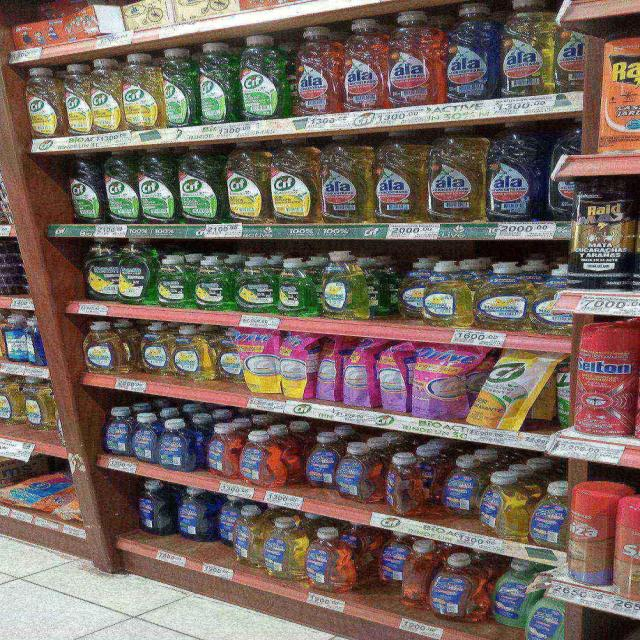ala_conc_amarillo: (428, 128, 485, 223), (373, 136, 425, 223), (318, 140, 371, 223)
ala_conc_azul: (486, 123, 542, 222), (444, 3, 497, 102), (158, 418, 195, 471), (130, 413, 158, 465)
ala_conc_rojo: (388, 11, 443, 107), (290, 25, 340, 115), (342, 19, 387, 111)
cif_conc_bot_amarilla: (268, 142, 315, 224), (223, 144, 266, 223), (122, 53, 160, 129), (24, 67, 60, 137), (90, 59, 120, 132), (62, 63, 90, 134)
cif_conc_botella_verde: (238, 34, 283, 120), (197, 40, 237, 124), (178, 146, 221, 224), (138, 148, 176, 224), (161, 49, 195, 128), (66, 152, 102, 224), (104, 150, 138, 224), (193, 255, 233, 311), (237, 257, 277, 313), (278, 258, 315, 316), (153, 254, 191, 308), (120, 247, 151, 305)
